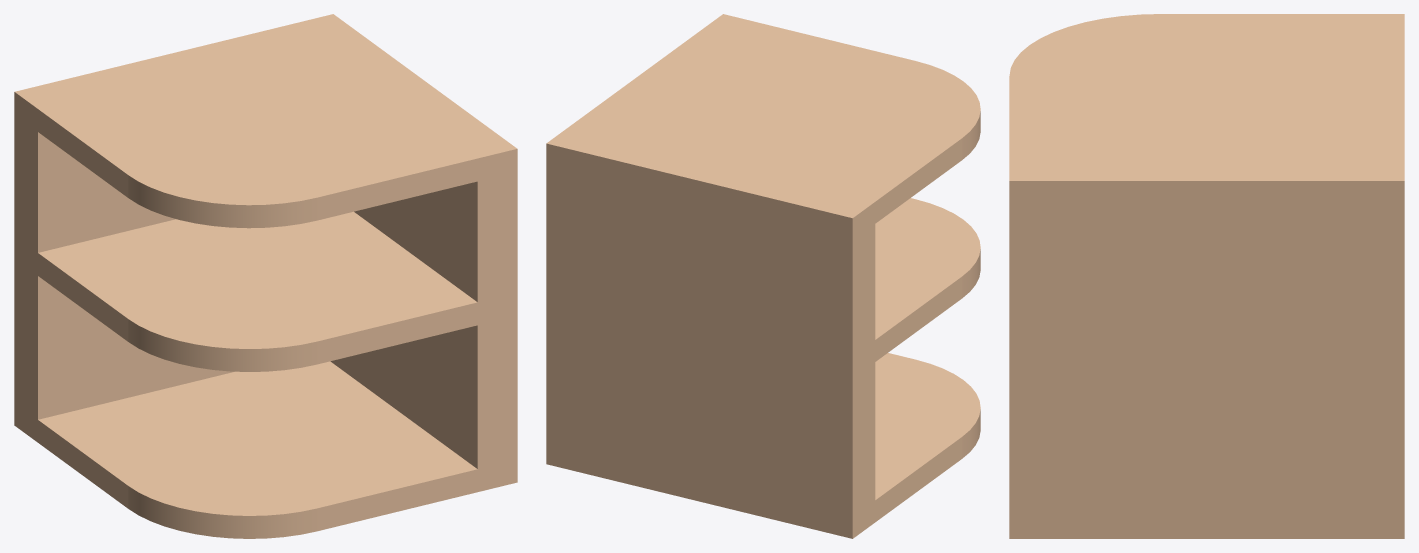
File: kn-kitchen-cabinet-upper-corner.glb
3 views of the same model, side by side, from view 1: azimuth 30°, elevation 25°; view 2: azimuth 150°, elevation 25°; view 3: azimuth 270°, elevation 25° (orthographic). The views are drawn at different scales.
Visible parts, largest first — view 1: kitchenCabinetUpperCorner(Clone); view 2: kitchenCabinetUpperCorner(Clone); view 3: kitchenCabinetUpperCorner(Clone).
Boxes of the visible parts, <box> form: kitchenCabinetUpperCorner(Clone): <box>14,14,517,538</box>; kitchenCabinetUpperCorner(Clone): <box>546,14,980,538</box>; kitchenCabinetUpperCorner(Clone): <box>1009,14,1404,538</box>.
Size of the model in its own units: 1 by 1 by 1.
